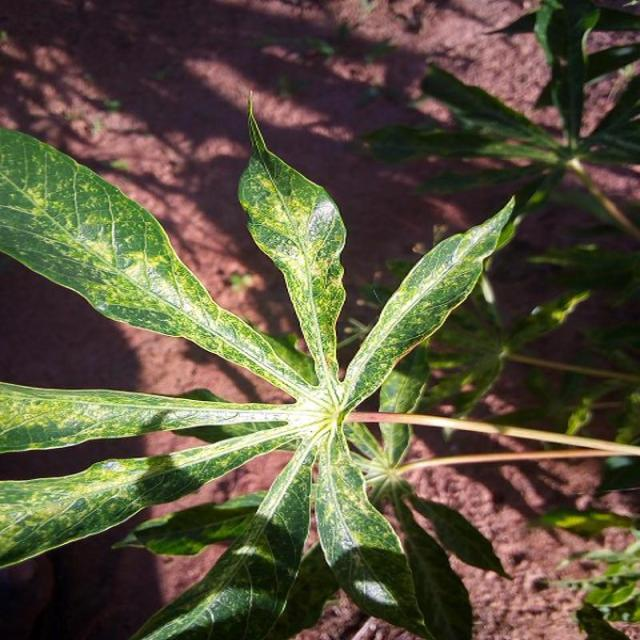cassava leaf: (1, 91, 636, 638), (0, 124, 318, 401), (340, 193, 516, 412), (236, 89, 348, 385)
